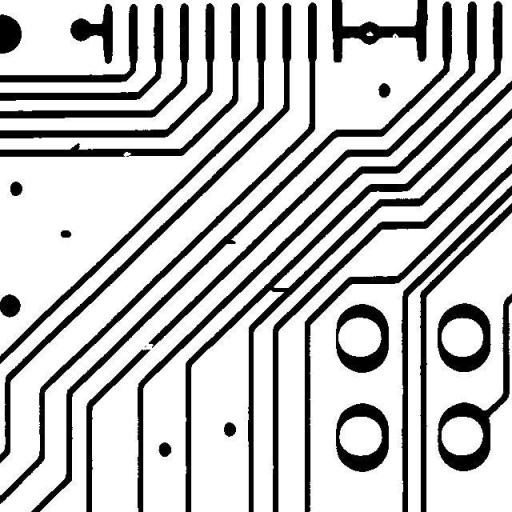copper: (53, 222, 78, 245)
mousebite: (384, 26, 406, 48), (116, 144, 138, 163)
open: (134, 336, 161, 358)
pin-hole: (358, 23, 381, 43)
short: (258, 278, 298, 300)
spur: (216, 231, 243, 251), (63, 136, 87, 158)
